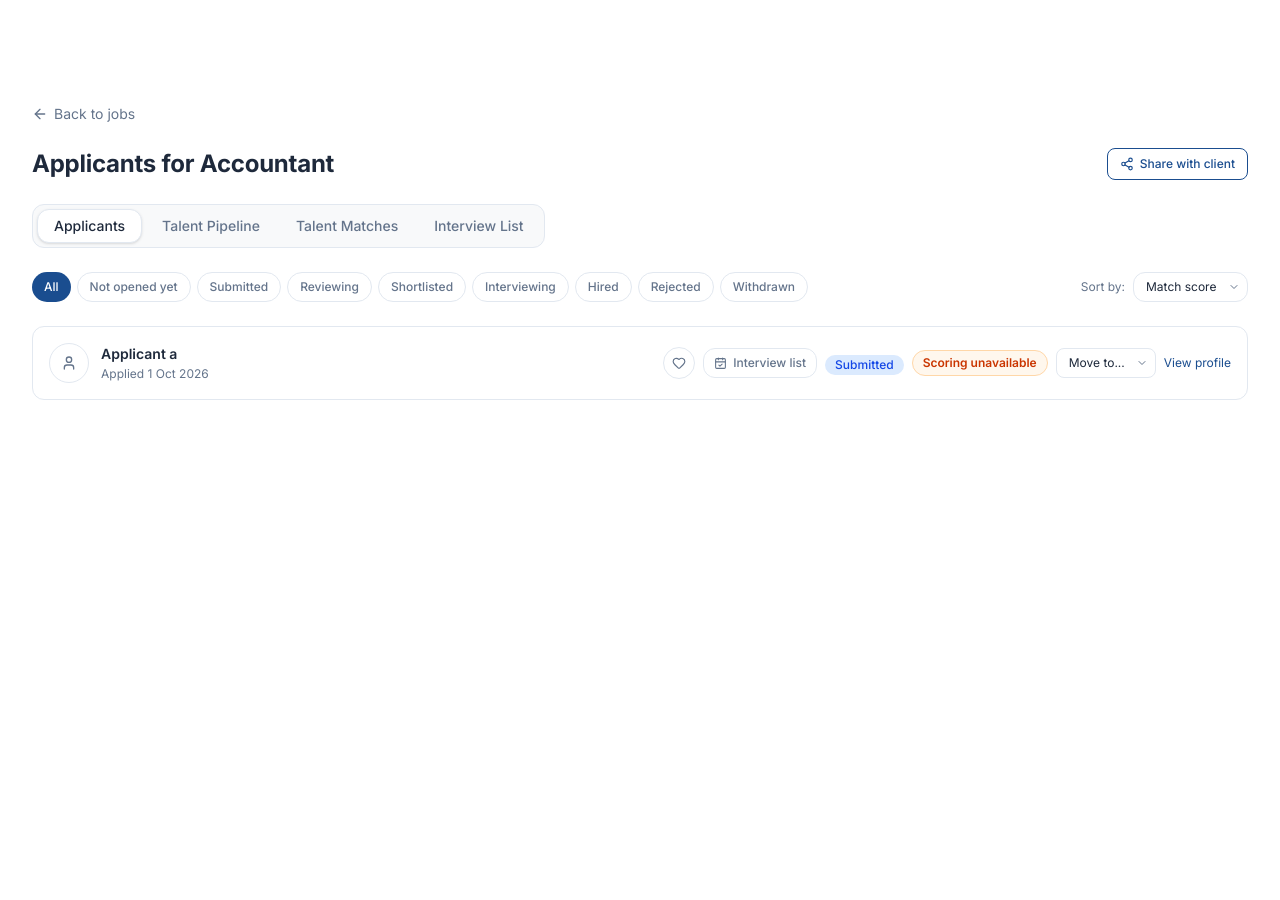
Test: ApplicantsPage, applicants with no score › Rescore › rescores one candidate from their score panel
Expected: the text "Applicant a" is shown, [101,345,177,362]
Click the button with aria-label "Match score: Scoring unavailable" at (980, 363), box [912,350,1048,376]
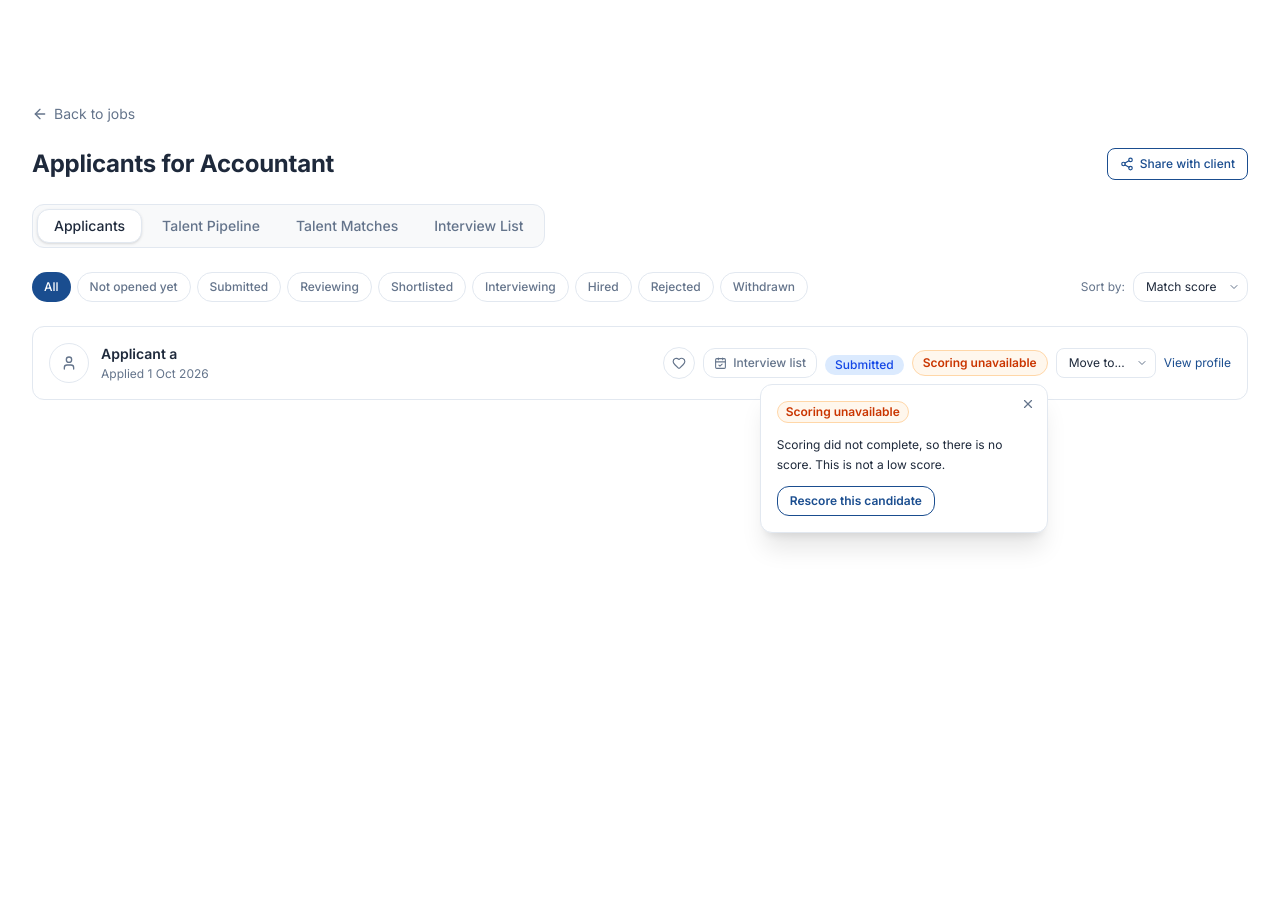
Click the button "Rescore this candidate" at (856, 501), box [777,486,935,516]
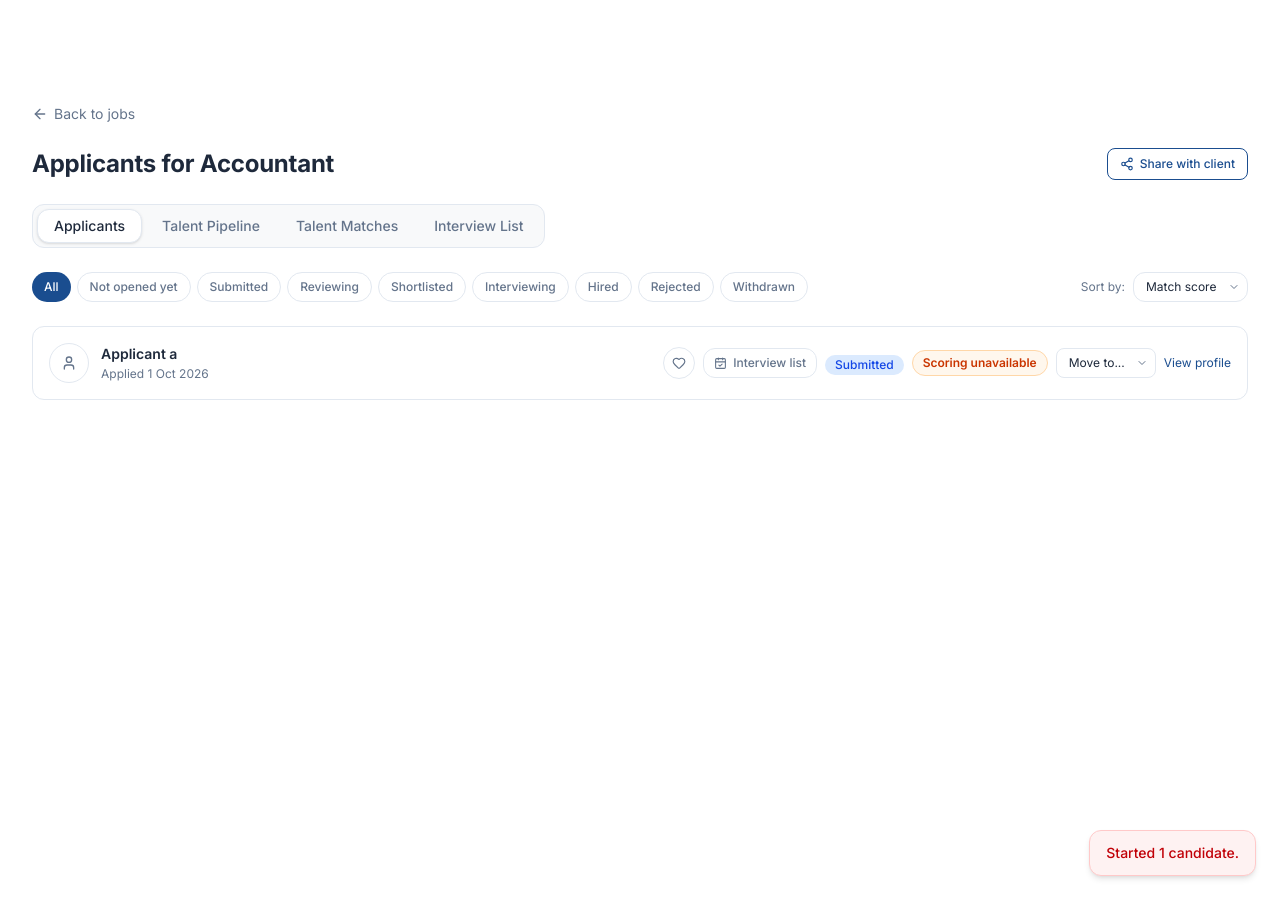
Result: the text "Started 1 candidate." is shown at [1089,830,1256,876]
